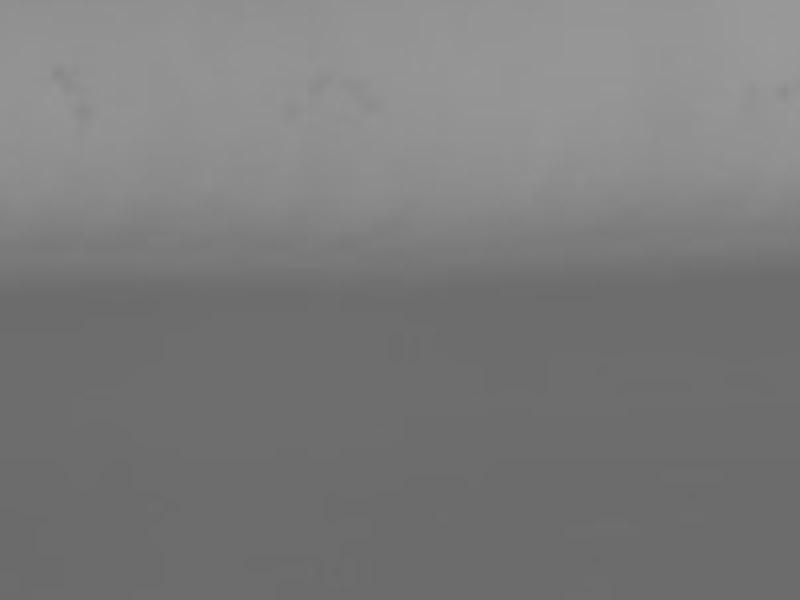defect: (354, 91, 390, 120), (308, 66, 329, 100), (51, 63, 73, 92), (71, 101, 94, 127), (739, 81, 760, 103), (774, 79, 789, 100)
